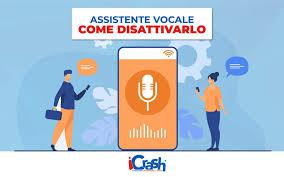Hand: (194, 89, 199, 96), (85, 87, 87, 91)
Smartphone: (119, 44, 182, 151), (86, 84, 90, 93), (196, 84, 198, 89)
